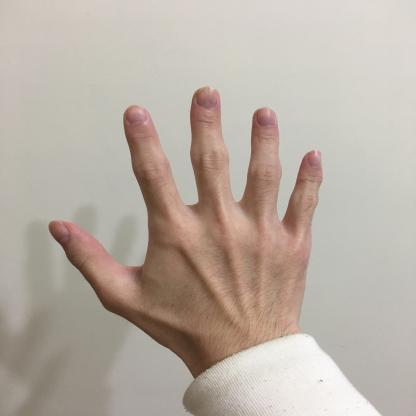bare_hand: (44, 80, 336, 368)
